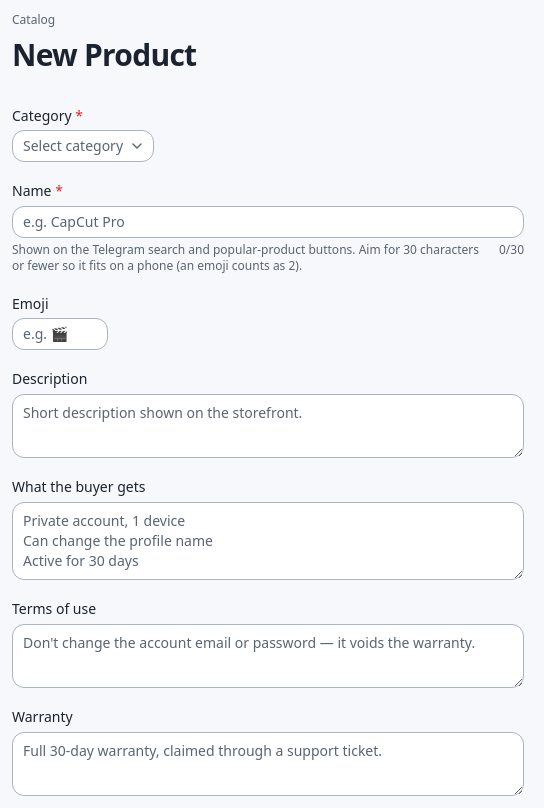
Test: ProductCreatePage › creates a new category inline via the + New category affordance
Expected: the field with placeholder "e.g. CapCut Pro" is shown, [12, 206, 524, 238]
// Open the category combobox and pick "+ New category"
Click the dropdown: {"x": 83, "y": 146} [12, 130, 154, 162]
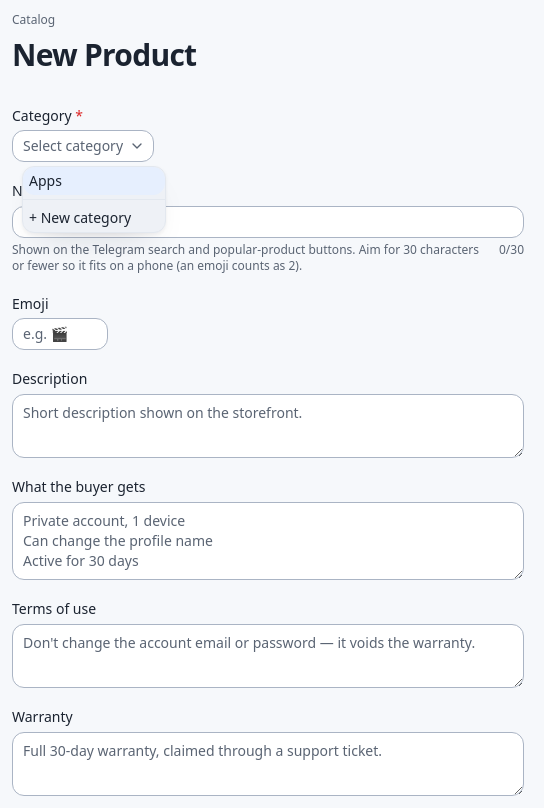
Now the option "+ New category" is shown
Click the option "+ New category": {"x": 80, "y": 218} [29, 208, 131, 227]
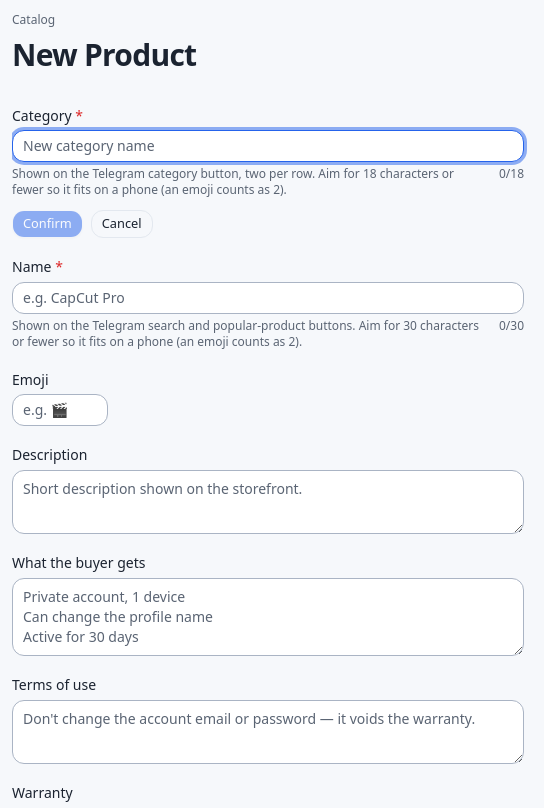
// The Select swaps for an Input + Confirm/Cancel
In the field with placeholder "New category name": {"x": 268, "y": 146} [12, 130, 524, 162], type "Streaming"
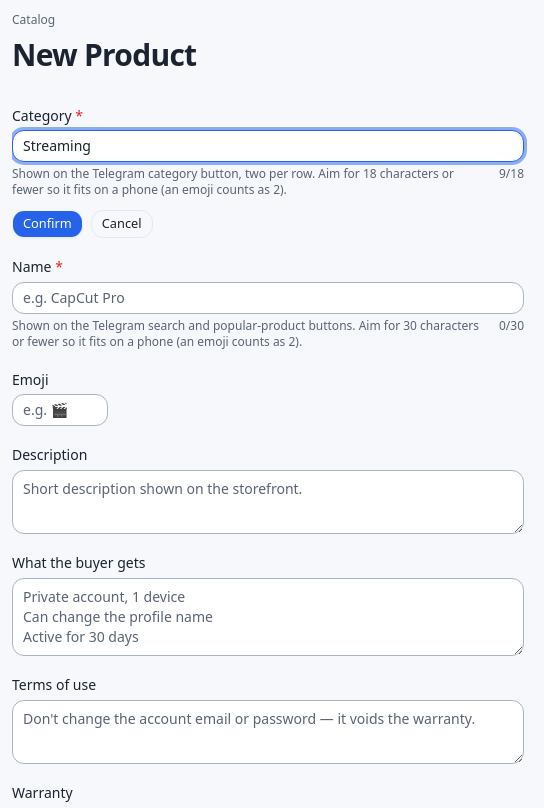
Now the button "Confirm" is enabled
Click the button "Confirm": {"x": 47, "y": 224} [12, 210, 83, 238]
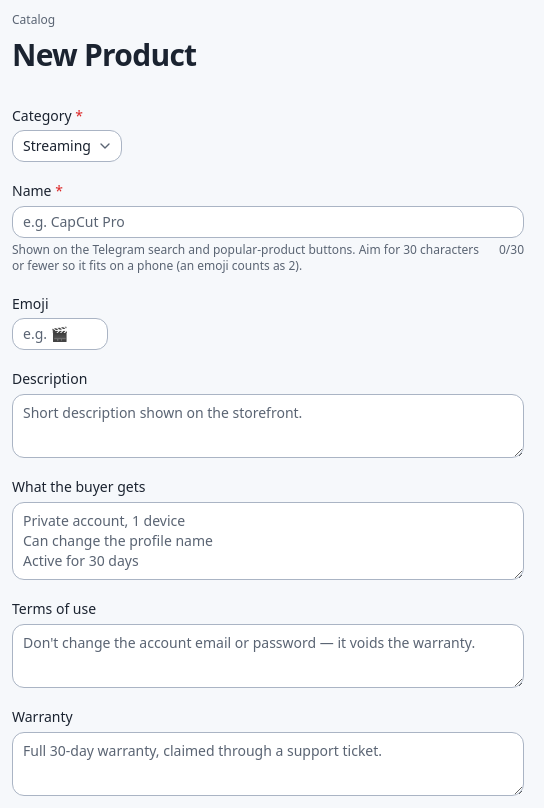
Expected: the field with placeholder "new category name" is not shown
Now the dropdown reads "Streaming", box [12, 130, 122, 162]
